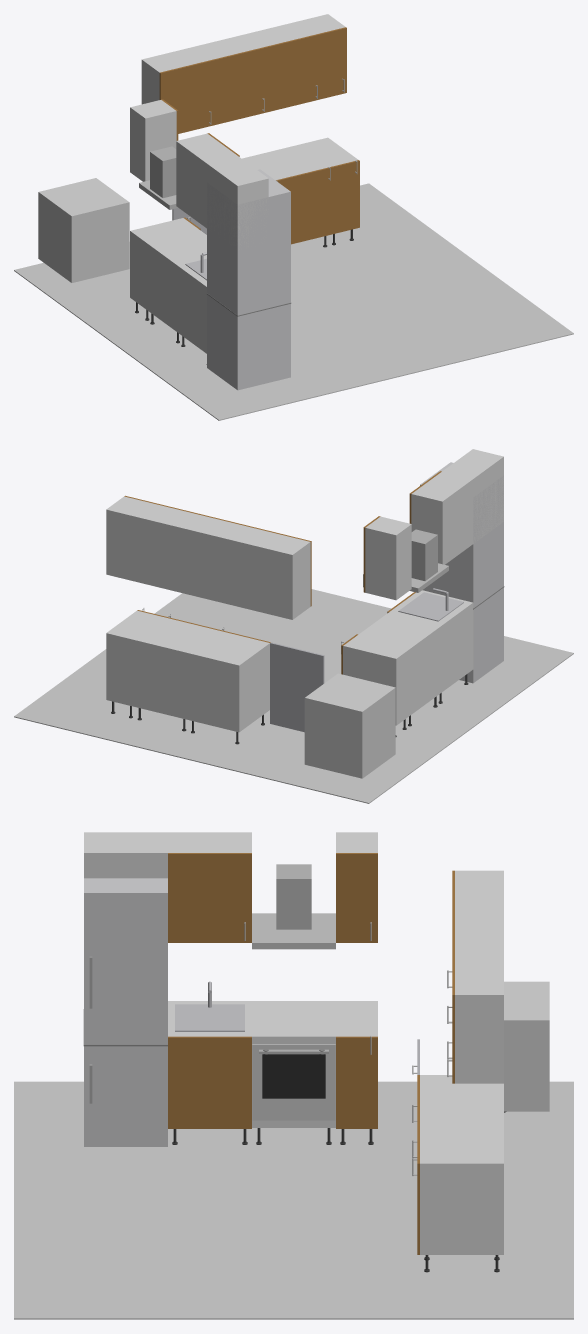
Rendered from hybrid_l_shape_corner.glb.
The picture shows the model from 3 angles, top to bottom: view 1: azimuth 30°, elevation 25°; view 2: azimuth 150°, elevation 25°; view 3: azimuth 270°, elevation 25°; orthographic projection. The views are drawn at different scales.
Parts seen in each view (by area): view 1: world; view 2: world; view 3: world.
Boxes of the visible parts, <box> form: world: <box>14,14,573,420</box>; world: <box>14,449,573,803</box>; world: <box>14,832,573,1319</box>.
Bounding box in the file's own units: 400 × 221 × 400.
